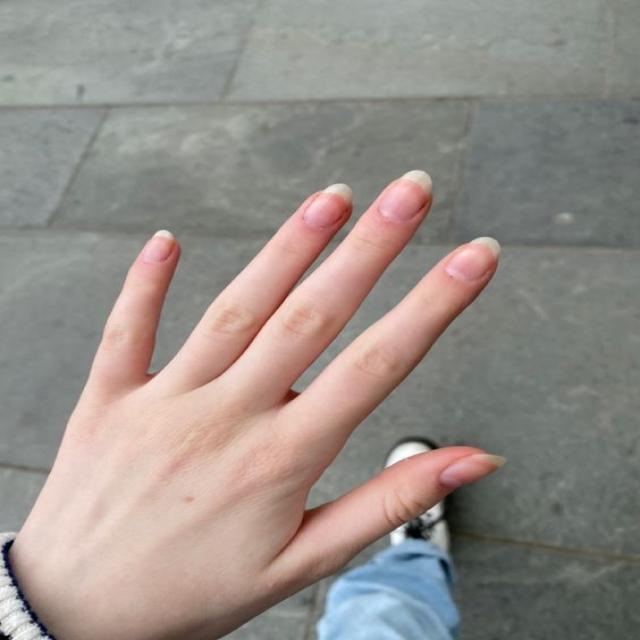Fingernail: (380, 170, 432, 223), (440, 454, 508, 492), (447, 237, 501, 282), (304, 183, 353, 230), (144, 230, 174, 263)
